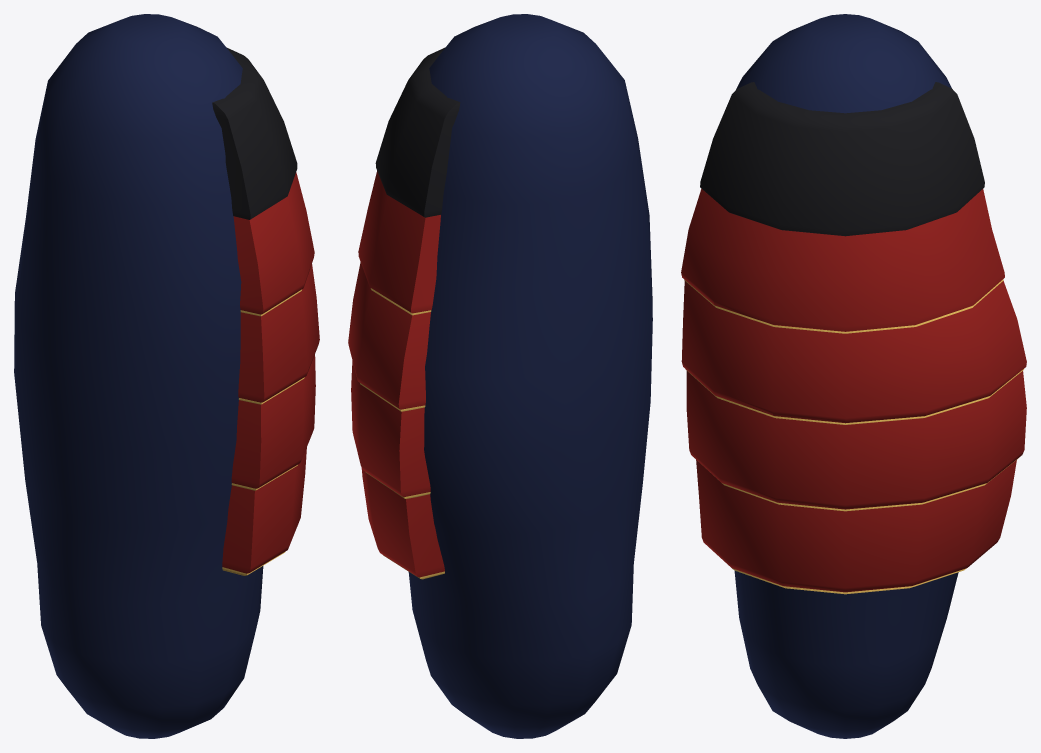
The model's file is upper_arm_r.glb.
3 views of the same model, side by side, from view 1: azimuth 30°, elevation 25°; view 2: azimuth 150°, elevation 25°; view 3: azimuth 270°, elevation 25° (orthographic).
Parts seen in each view (by area): view 1: OUT; view 2: OUT; view 3: OUT.
Boxes of the visible parts, box(x1,y1,x2,y2) form: OUT: box(14, 14, 319, 738); OUT: box(348, 14, 652, 738); OUT: box(681, 14, 1026, 738).
Size of the model in its own units: 0.1347 by 0.344 by 0.1554.
